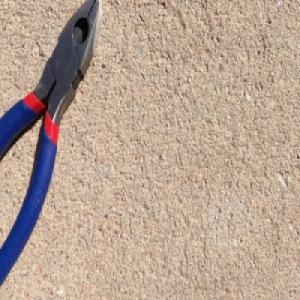Pliers: (0, 0, 103, 292)
